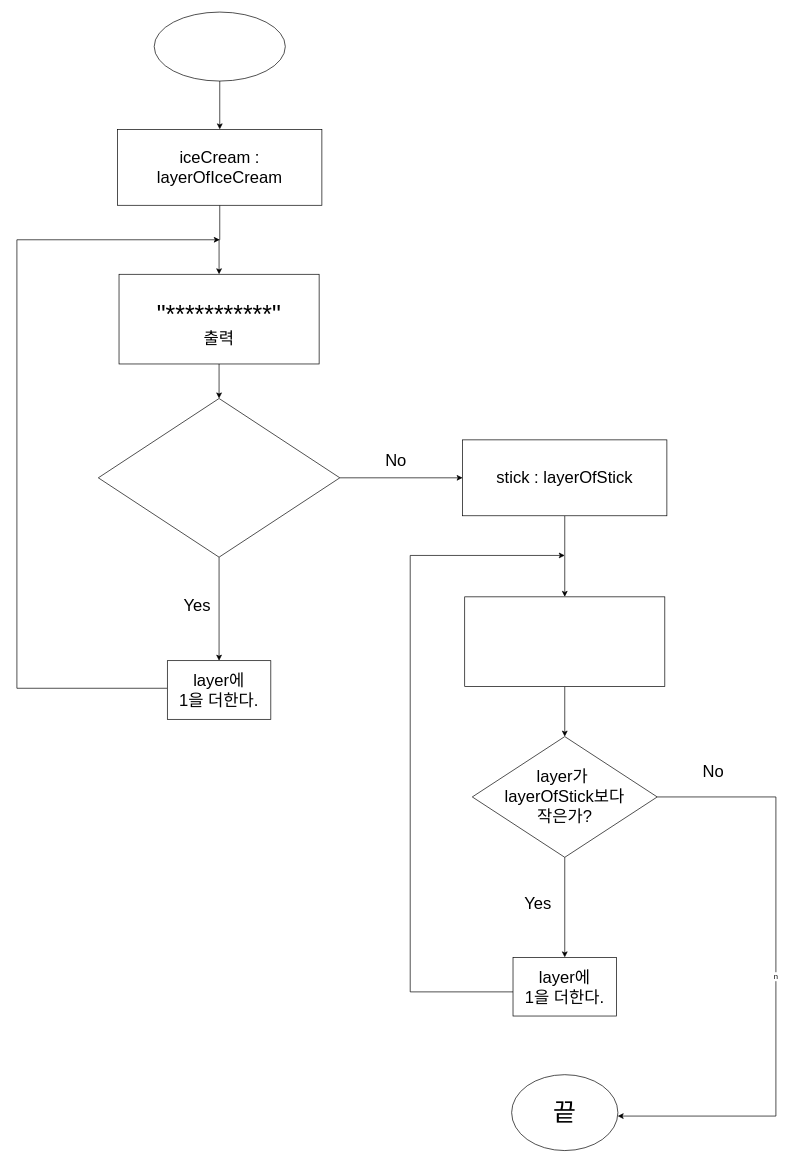
The diagram is 794 pixels wide and 1163 high, and some of its shapes have lost their labels. The shapes that lost their labels are listed below. From the top down, each one's centre as x and y in pixels, then its label:
(219,46): 시작
(219,477): layer가 layerOfIceCream보다 작은가?
(564,641): " | |" 출력
